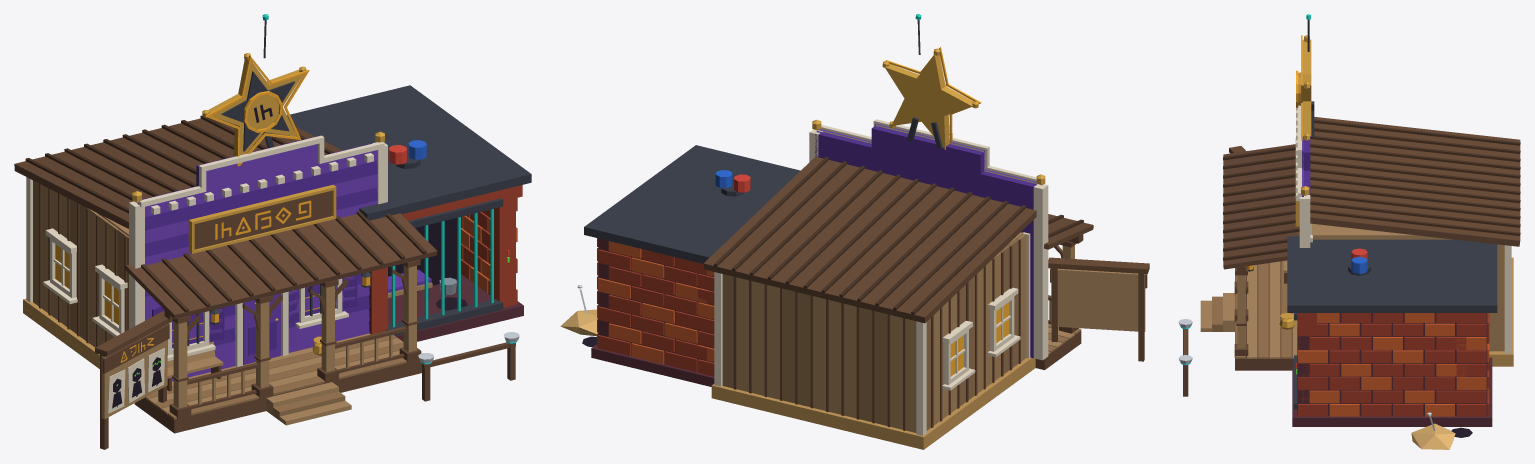
The model's file is Bldg_Sheriff.obj.
3 views of the same model, side by side, from view 1: azimuth 30°, elevation 25°; view 2: azimuth 150°, elevation 25°; view 3: azimuth 270°, elevation 25° (orthographic). The views are drawn at different scales.
Visible parts, largest first — view 1: Bldg_Sheriff_Body, Bldg_Sheriff_Star, Bldg_Sheriff_Laser_Bars, Bldg_Sheriff_Posters, Bldg_Sheriff_Door; view 2: Bldg_Sheriff_Body, Bldg_Sheriff_Star; view 3: Bldg_Sheriff_Body, Bldg_Sheriff_Star.
Part boxes in pixels (x1,y1,x2,y2): Bldg_Sheriff_Body: (14, 85, 531, 449); Bldg_Sheriff_Star: (202, 14, 309, 166); Bldg_Sheriff_Laser_Bars: (391, 209, 493, 327); Bldg_Sheriff_Posters: (107, 337, 164, 413); Bldg_Sheriff_Door: (243, 293, 280, 364); Bldg_Sheriff_Body: (560, 117, 1149, 449); Bldg_Sheriff_Star: (882, 14, 981, 149); Bldg_Sheriff_Body: (1178, 101, 1520, 449); Bldg_Sheriff_Star: (1296, 14, 1311, 140).
Bounding box in the file's own units: 15.72 × 10.35 × 10.43.
